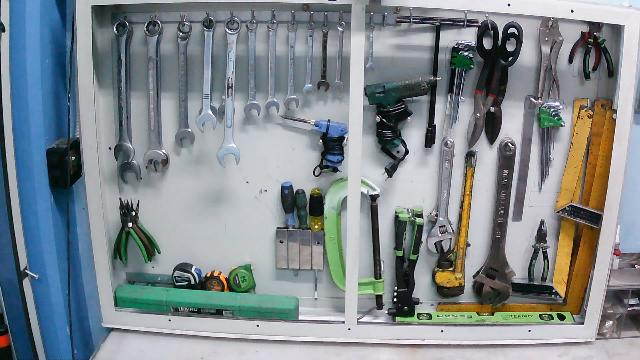tang_kombinasi: (527, 217, 550, 284)
